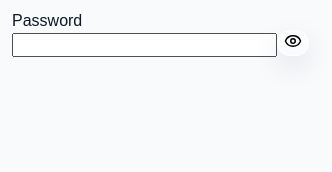
sign-in form › lets keyboard users reveal and hide their password without losing it
In the password field labelled "Password": (144, 45) [12,33,277,57], type "PrivatePassword123!"
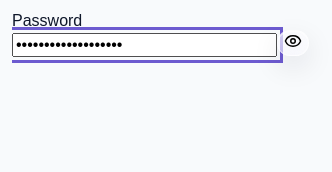
Press Tab
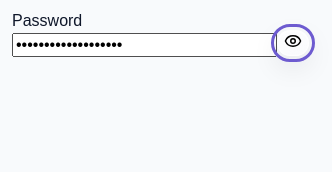
Press Enter
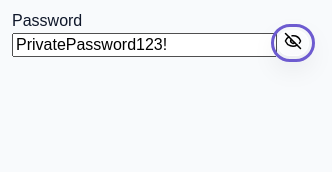
Expected: the field labelled "Password" shows its text, [12,33,277,57]
Press Enter
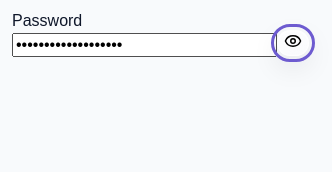
Expected: the password field labelled "Password" hides its text, [12,33,277,57]
